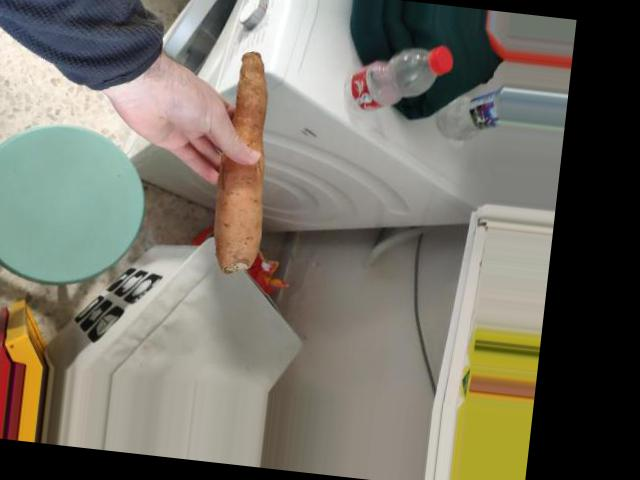sweet_potato: (191, 45, 285, 271)
